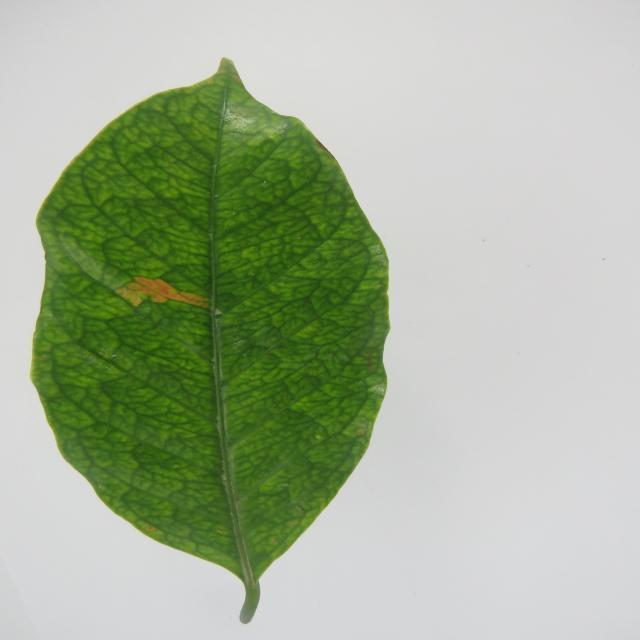DeficienciaNutricional-Hierro: (32, 60, 388, 622)
